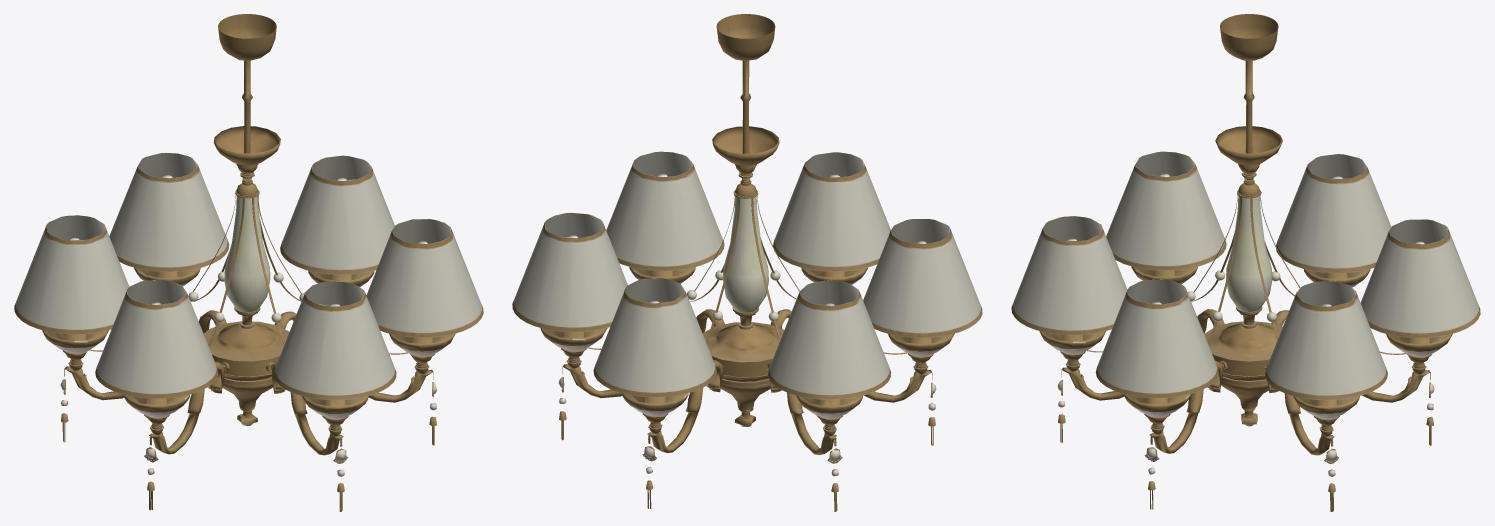
File: chandelier.glb
The picture shows the model from 3 angles, left to right: view 1: azimuth 30°, elevation 25°; view 2: azimuth 150°, elevation 25°; view 3: azimuth 270°, elevation 25°; orthographic projection.
Parts seen in each view (by area): view 1: Chandelier_01; view 2: Chandelier_01; view 3: Chandelier_01.
Boxes of the visible parts, box(x1,y1,x2,y2) form: Chandelier_01: box(14, 14, 483, 511); Chandelier_01: box(512, 14, 982, 511); Chandelier_01: box(1011, 14, 1480, 511).
Size of the model in its own units: 0.7465 by 0.7982 by 0.8155.
2 materials, 1 textured.
